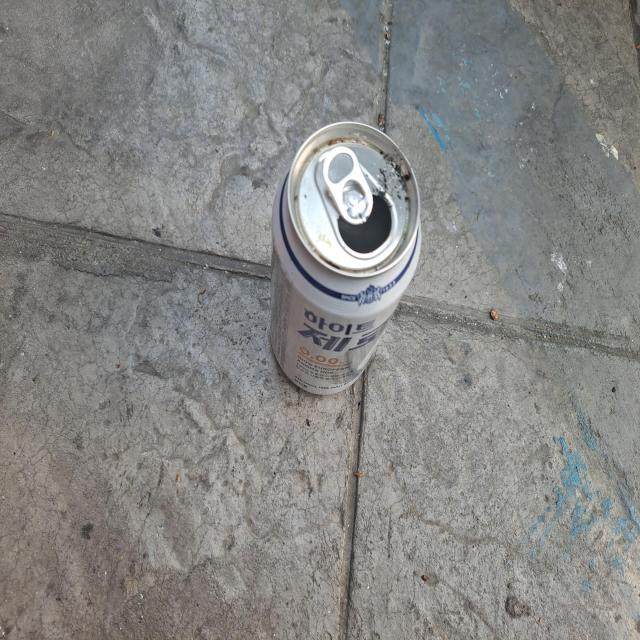can: (270, 121, 421, 394)
